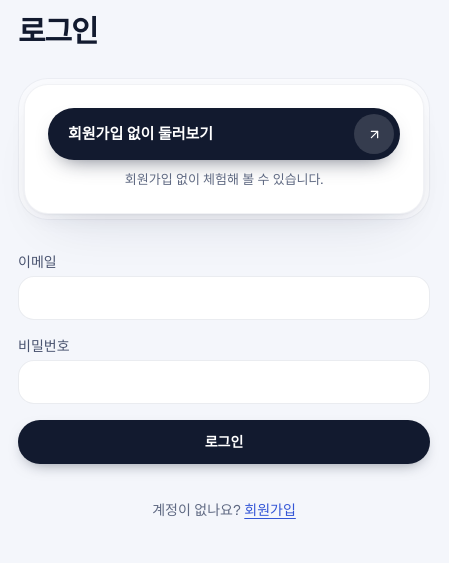
Test: 데모 로그인 › 429 이면 요청 과다 안내를 보여 주고 세션은 만들지 않음
What coordinates should you click on to do the following:
click the button "회원가입 없이 둘러보기"
I would click on:
 (141, 133)
Its box is [48, 108, 400, 160].
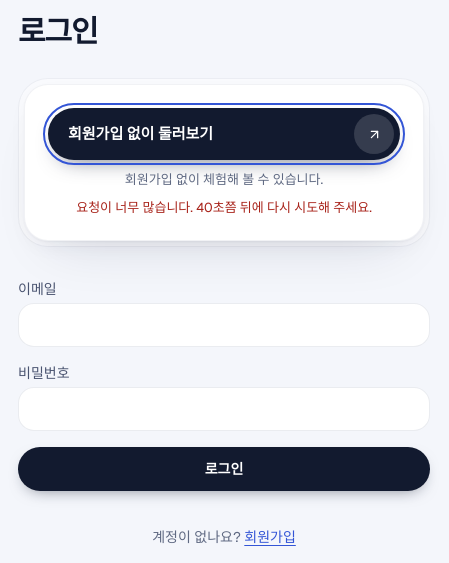
expect the message shows "40초": met, box [76, 198, 372, 216]
